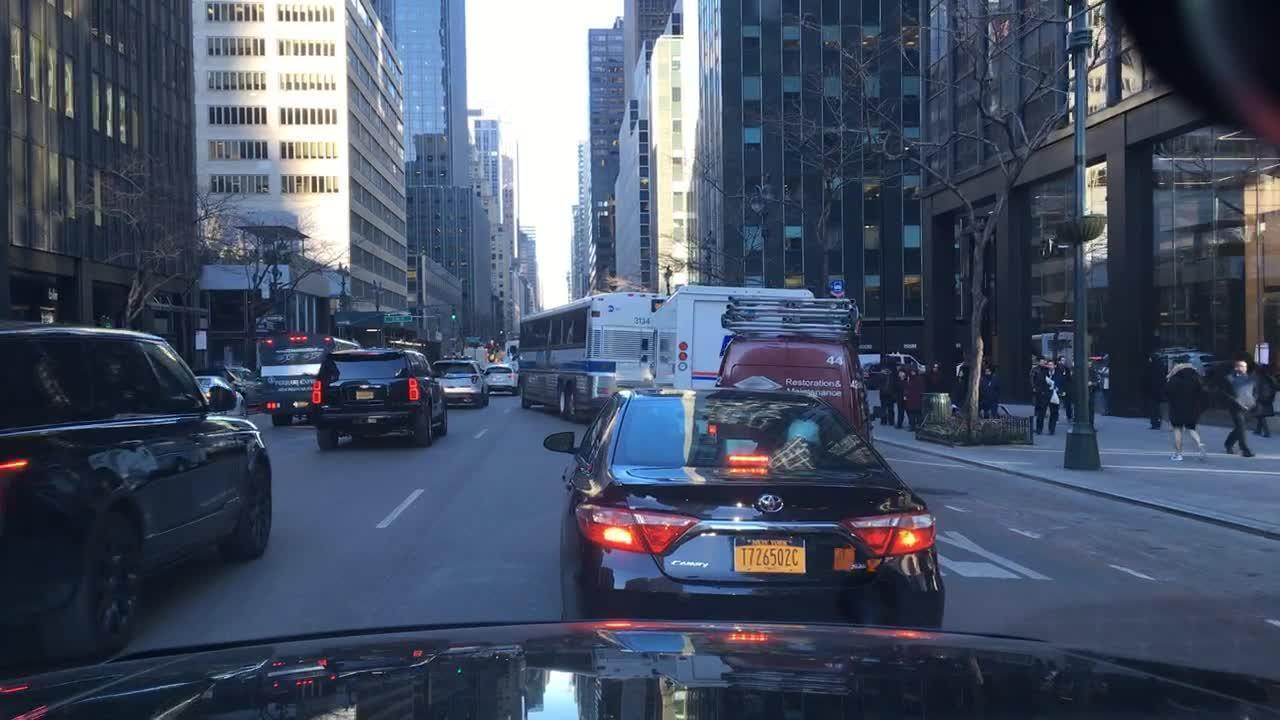Toyota: (749, 484, 793, 522)
